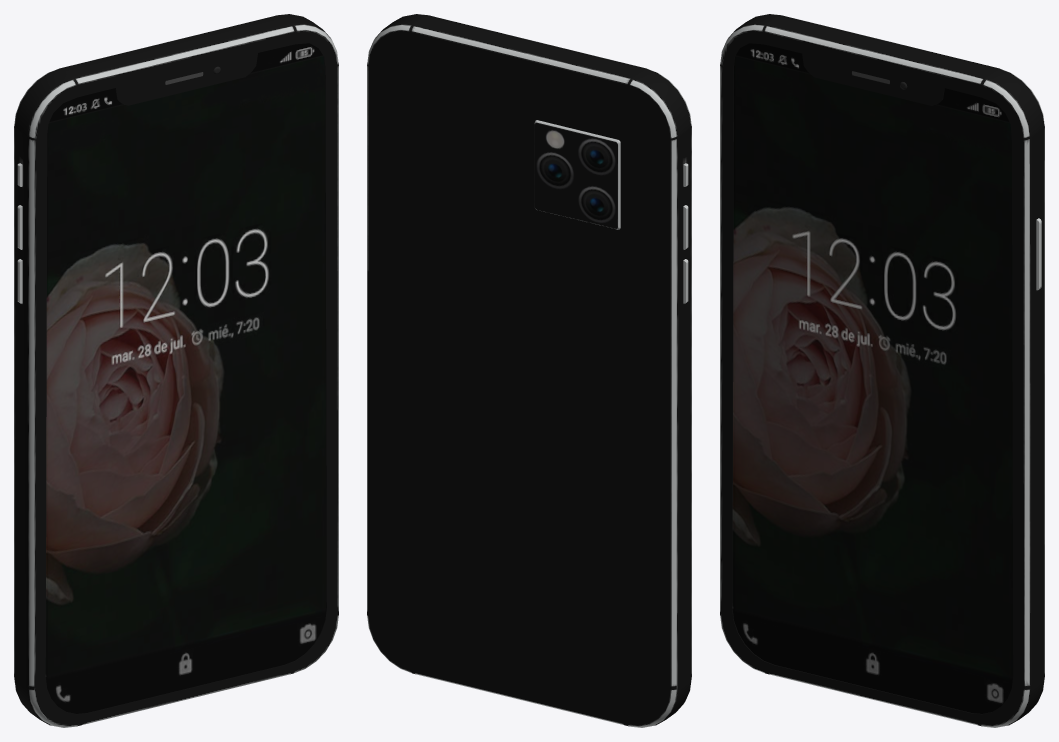
The model's file is movil.fbx.
The picture shows the model from 3 angles, left to right: view 1: azimuth 30°, elevation 25°; view 2: azimuth 150°, elevation 25°; view 3: azimuth 330°, elevation 25°; orthographic projection.
Parts seen in each view (by area): view 1: movil; view 2: movil; view 3: movil.
Boxes of the visible parts, x1,y1,x2,y2 form: movil: [14, 14, 338, 727]; movil: [367, 14, 691, 727]; movil: [720, 14, 1044, 727].
Bounding box in the file's own units: 7.18 × 14.06 × 0.8515.
Materials: 1 (1 with a texture image).
